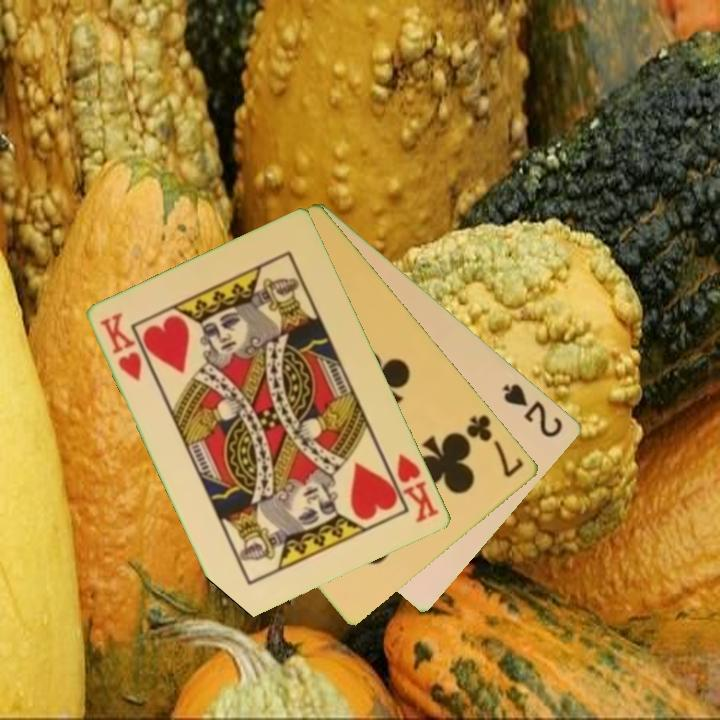2s: (499, 380, 567, 441)
7c: (463, 410, 527, 481)
Kh: (381, 450, 442, 526), (97, 308, 146, 384)
